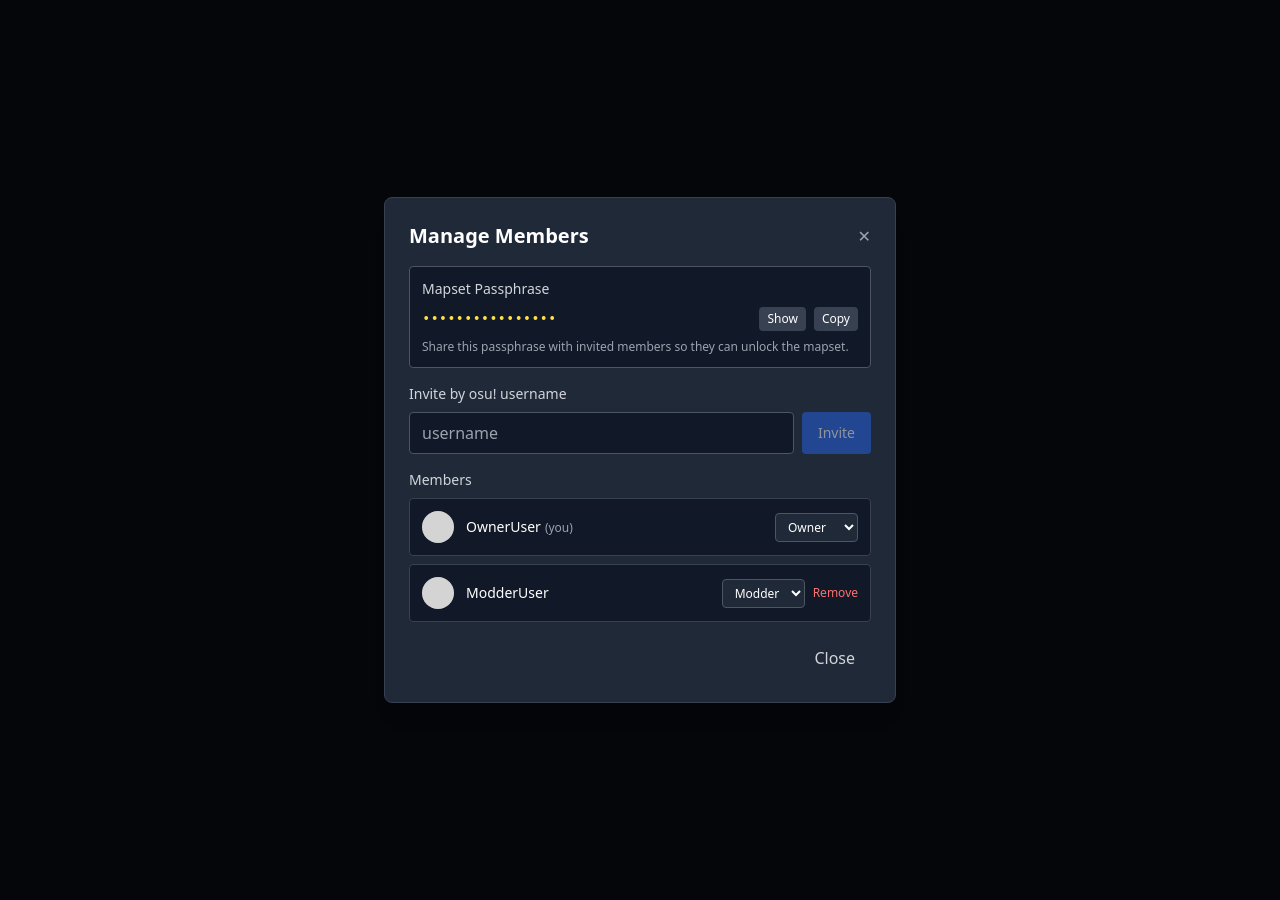
Test case: ManageMembersModal › shows passphrase when cached for owner
Expected: the text "secret-passphrase-123" is not shown
Click the button "Show".
click(783, 319)  # box [759,307,806,331]
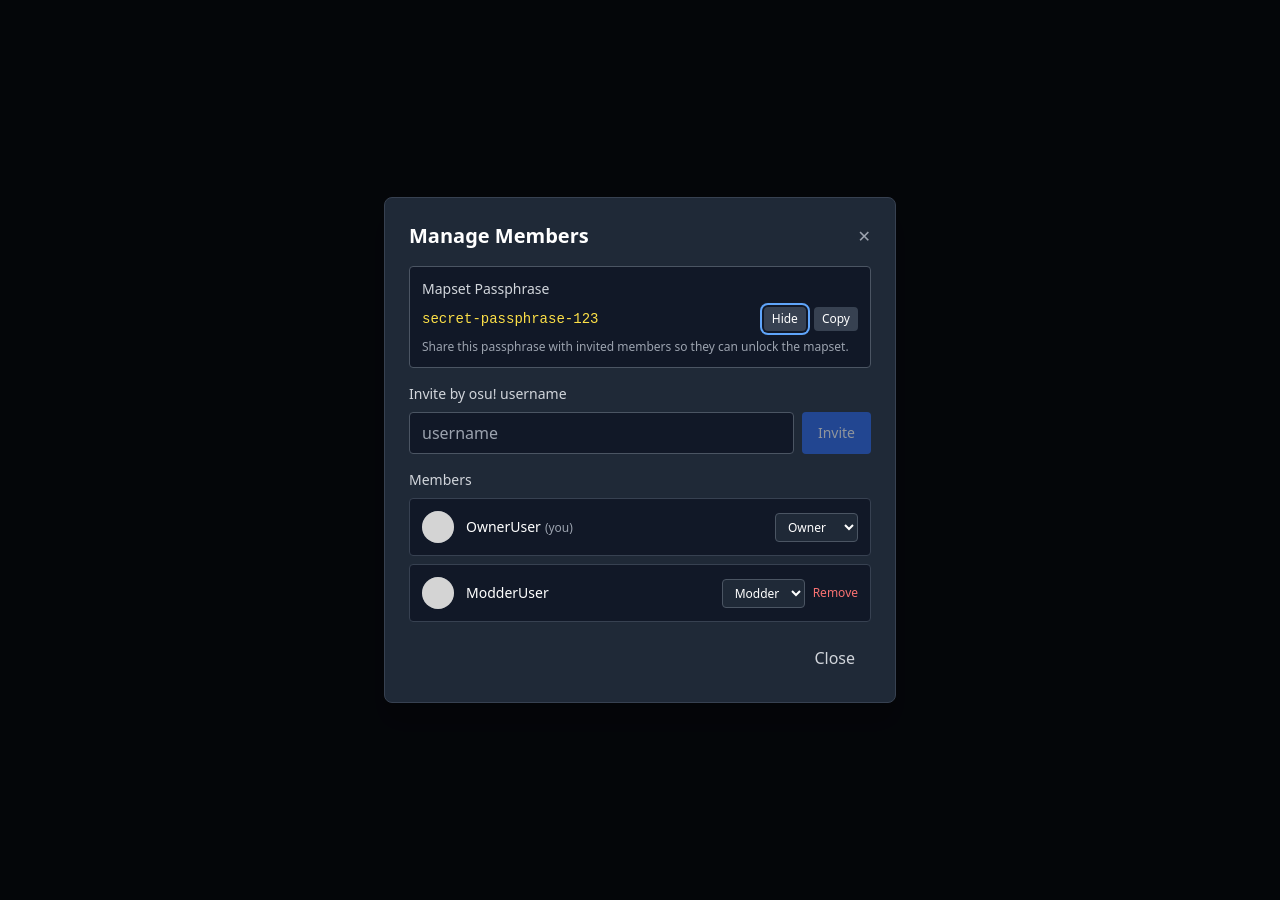
Expected: the text "secret-passphrase-123" is shown, [422,311,598,327]
